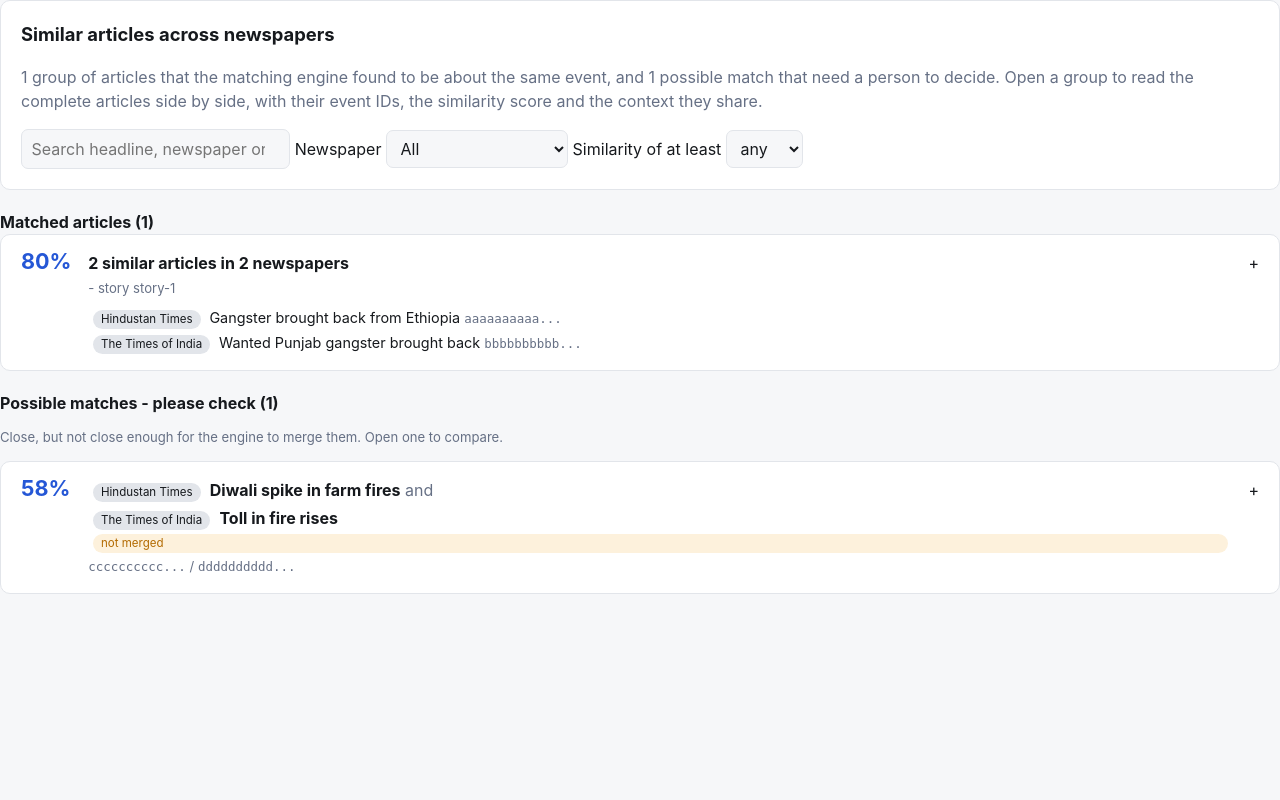
it: SimilarArticles › shows borderline pairs separately, marked as not merged, and opens them like a group
Expected: the heading "Possible matches - please check (1)" is shown, x1=0 y1=393 x2=279 y2=413
Expected: the text "58%" is shown, x1=21 y1=478 x2=72 y2=500
Click the button named "not merged": (640, 527) x1=1 y1=462 x2=1279 y2=593
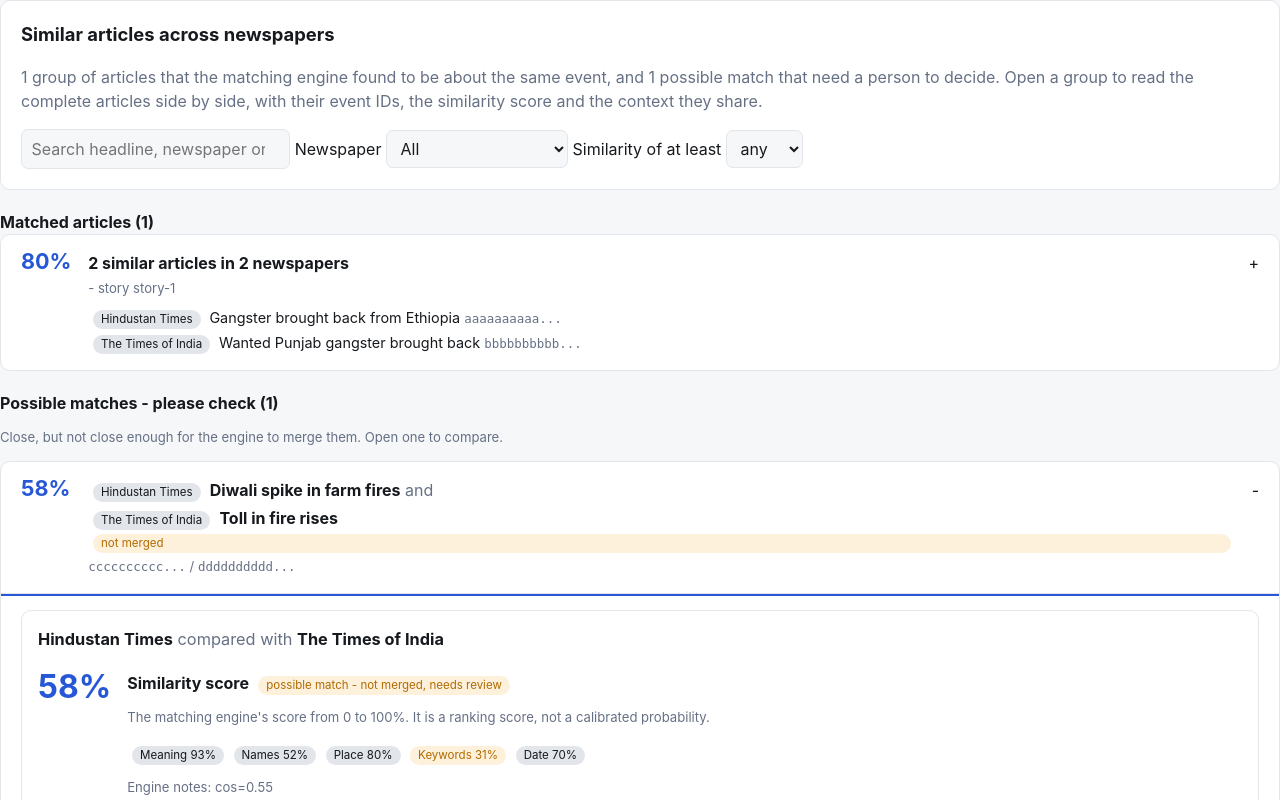
Expected: the text named "Similarity 58%" is shown, x1=38 y1=671 x2=111 y2=703
Expected: the text "possible match - not merged, needs review" is shown, x1=258 y1=676 x2=510 y2=695
